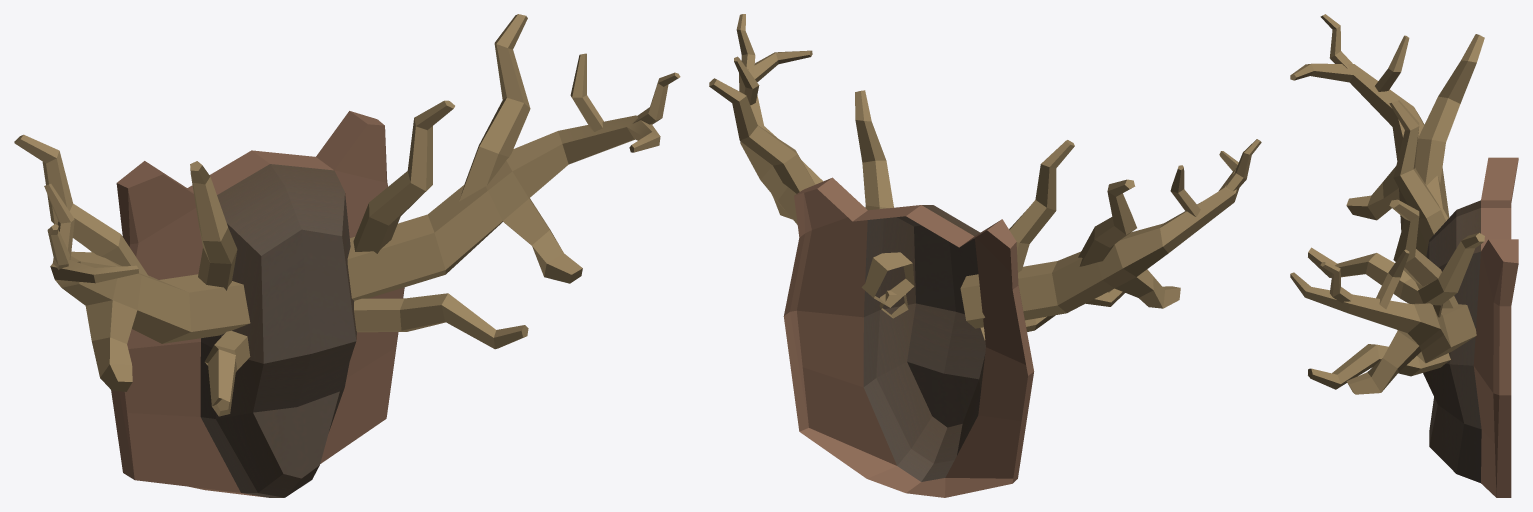
File: Horn.fbx
The picture shows the model from 3 angles, left to right: view 1: azimuth 30°, elevation 25°; view 2: azimuth 150°, elevation 25°; view 3: azimuth 270°, elevation 25°; orthographic projection. The views are drawn at different scales.
Parts seen in each view (by area): view 1: pCylinder178; view 2: pCylinder178; view 3: pCylinder178.
Part boxes in pixels (box(x1,y1,x2,y2)): pCylinder178: box(14, 14, 680, 497); pCylinder178: box(709, 14, 1261, 497); pCylinder178: box(1290, 14, 1518, 497).
Bounding box in the file's own units: 172 × 111 × 66.08.
